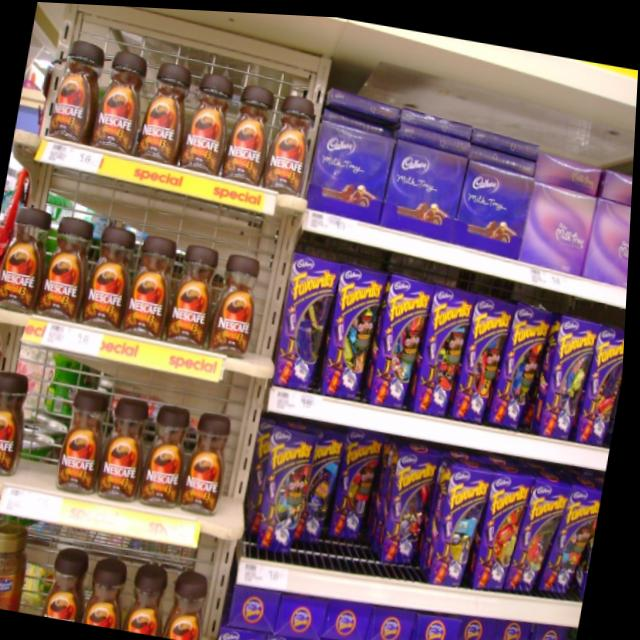q13: (48, 381, 117, 495), (138, 395, 204, 514), (0, 188, 65, 305), (98, 387, 159, 508), (46, 34, 108, 141), (121, 223, 183, 330), (167, 236, 229, 342), (83, 218, 141, 331), (183, 406, 241, 516), (220, 74, 280, 180), (38, 211, 99, 312), (268, 81, 319, 200), (96, 47, 151, 154), (183, 68, 241, 168), (139, 57, 194, 156), (220, 245, 270, 349), (0, 356, 40, 478)
